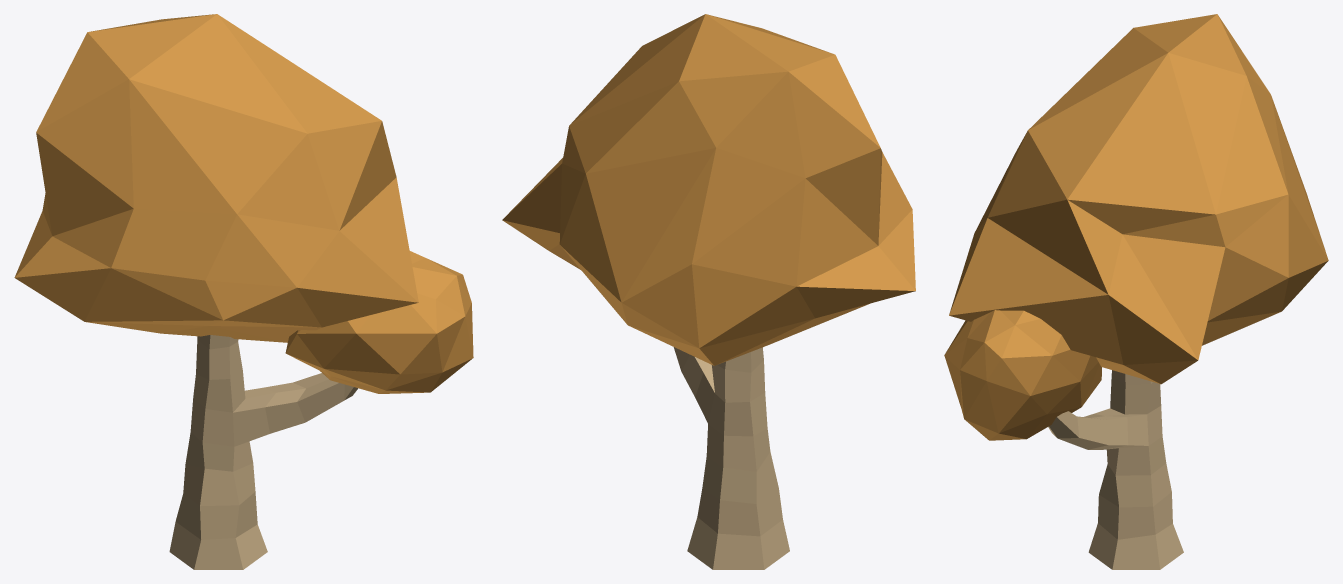
File: Tree_06.fbx
3 views of the same model, side by side, from view 1: azimuth 30°, elevation 25°; view 2: azimuth 150°, elevation 25°; view 3: azimuth 270°, elevation 25° (orthographic). The views are drawn at different scales.
Parts seen in each view (by area): view 1: Tree_6; view 2: Tree_6; view 3: Tree_6.
Boxes of the visible parts, x1,y1,x2,y2 form: Tree_6: (14,14,473,569); Tree_6: (502,14,915,569); Tree_6: (944,14,1328,569).
Bounding box in the file's own units: 1310 × 1715 × 1179.
